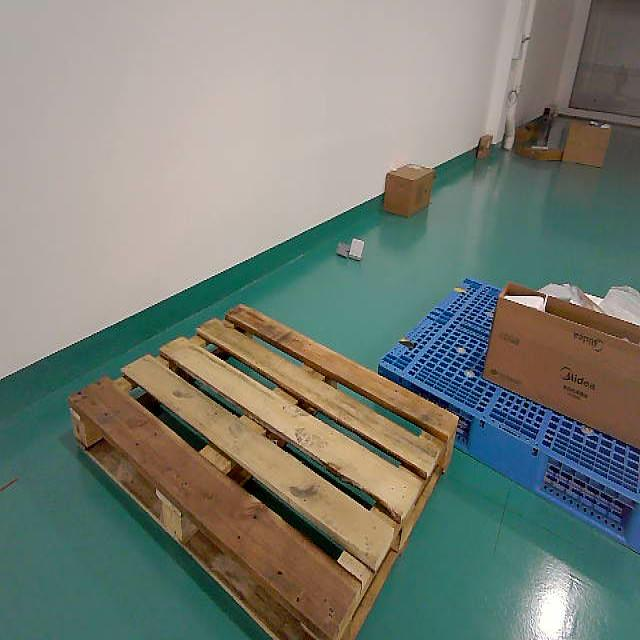euro: (69, 305, 458, 639)
